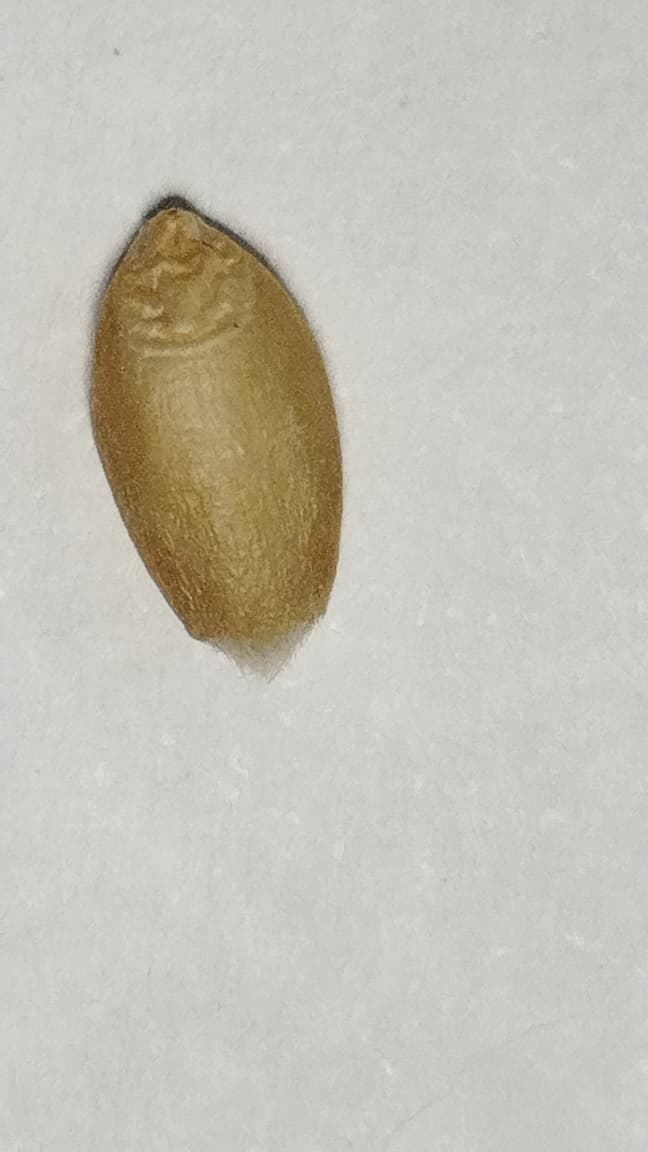healthy: (86, 198, 343, 668)
